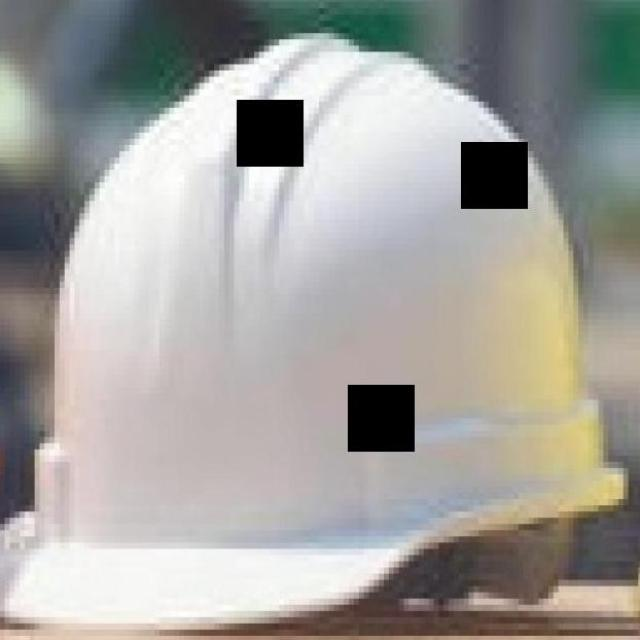white helmet: (19, 30, 630, 611)
